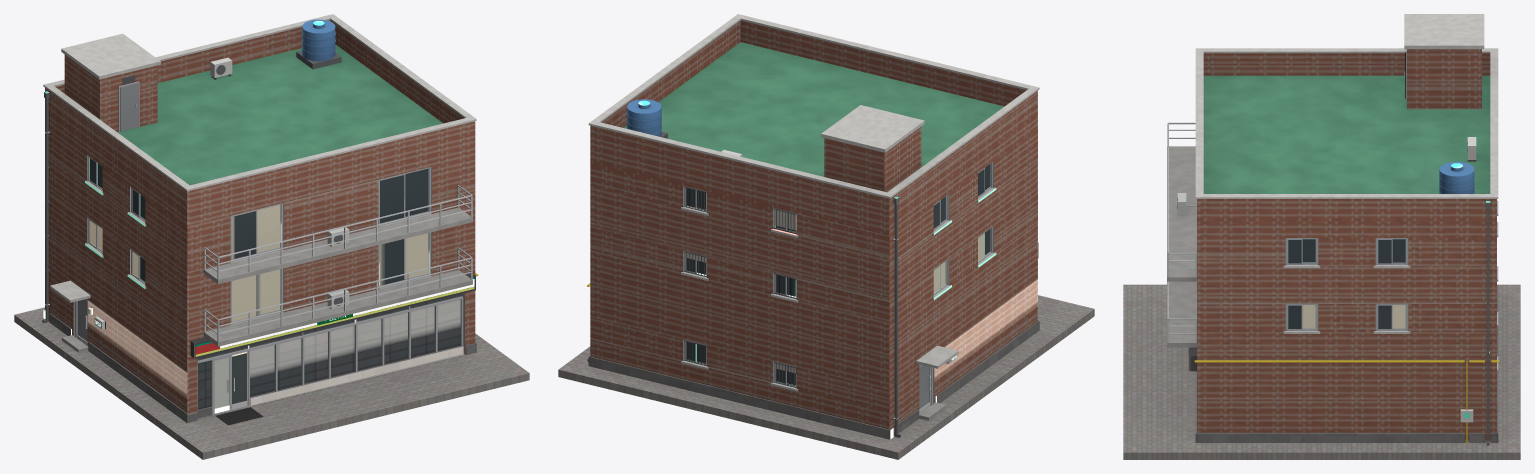
File: IlsanShop01.fbx
3 views of the same model, side by side, from view 1: azimuth 30°, elevation 25°; view 2: azimuth 150°, elevation 25°; view 3: azimuth 270°, elevation 25° (orthographic). The views are drawn at different scales.
Parts seen in each view (by area): view 1: IlsanShop01; view 2: IlsanShop01; view 3: IlsanShop01.
Part boxes in pixels (x1=…): IlsanShop01: x1=14, y1=14, x2=529, y2=459; IlsanShop01: x1=558, y1=14, x2=1094, y2=459; IlsanShop01: x1=1123, y1=14, x2=1520, y2=459.
Bounding box in the file's own units: 15.95 × 12.95 × 15.9.
1 material, 1 textured.
